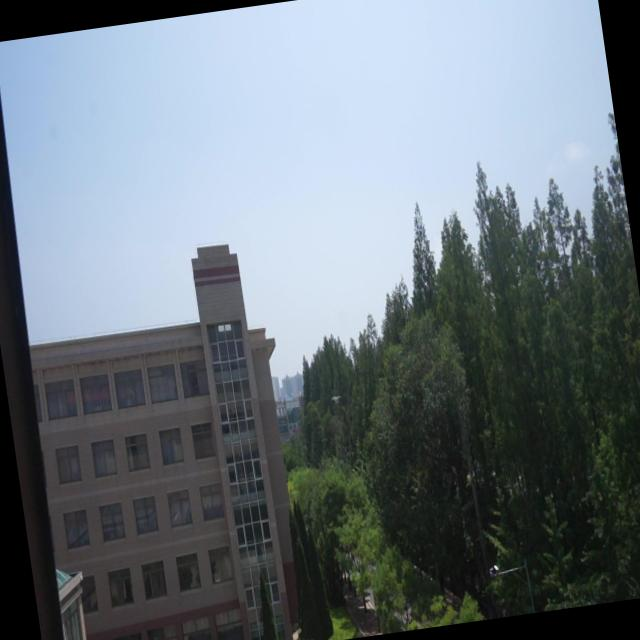drone: (330, 390, 345, 410)
